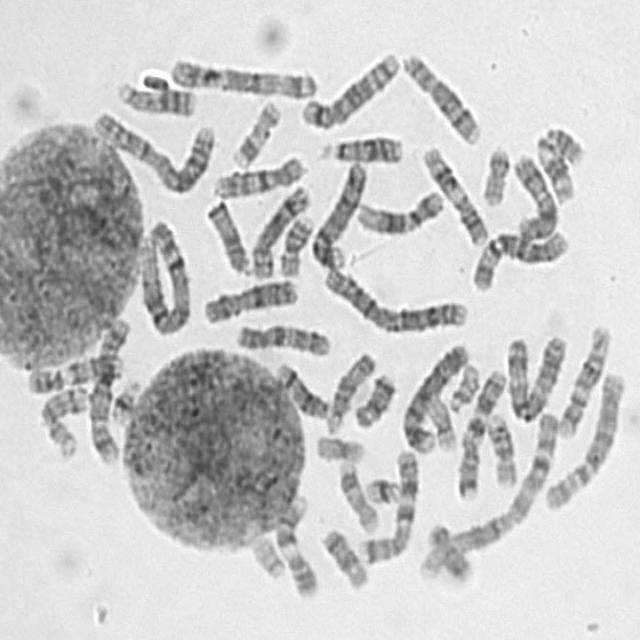A1: (415, 404, 562, 584), (133, 214, 194, 338)
A2: (85, 101, 216, 195), (318, 260, 470, 334)
A3: (164, 49, 318, 100), (500, 325, 570, 423)
B4: (395, 334, 471, 456), (305, 154, 370, 271)
B5: (296, 44, 402, 131), (84, 310, 132, 466)
C10: (209, 148, 306, 200), (230, 316, 332, 358)
C11: (416, 140, 490, 248), (530, 120, 587, 204)
C12: (553, 317, 613, 440), (351, 182, 446, 236)
C6: (538, 363, 628, 514), (466, 223, 571, 293)
C7: (450, 360, 510, 501), (353, 442, 421, 566)
C8: (395, 46, 482, 146), (245, 177, 314, 280)
C9: (270, 488, 319, 600), (21, 348, 126, 395)
D13: (113, 74, 198, 118), (314, 128, 404, 166)
D14: (34, 382, 94, 458), (270, 355, 331, 421)
D15: (320, 345, 378, 434), (200, 193, 253, 277)
E16: (481, 406, 519, 490), (272, 208, 316, 279)
E17: (226, 93, 283, 170), (333, 454, 381, 534)
E18: (316, 522, 369, 590), (347, 365, 397, 430)
F19: (421, 388, 459, 453), (310, 428, 367, 466)
F20: (423, 517, 475, 584), (476, 138, 512, 208)
G21: (105, 371, 142, 426), (359, 471, 404, 507)
G22: (245, 526, 287, 582), (443, 356, 482, 413)
X: (197, 271, 301, 326), (507, 147, 560, 241)
